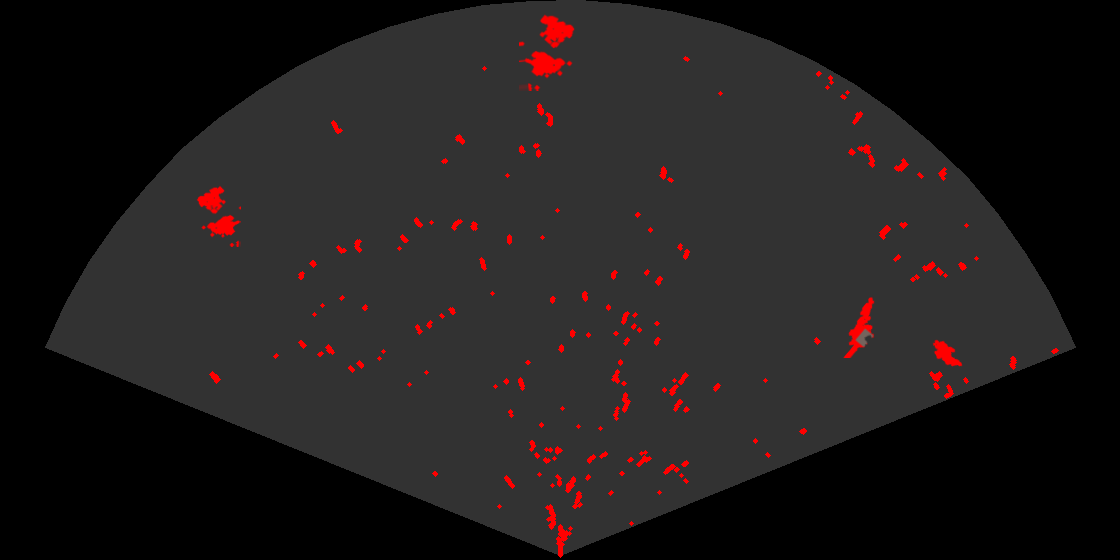AUV: (931, 338, 964, 368)
cage: (519, 13, 576, 91), (195, 184, 241, 247)
frogman: (842, 295, 876, 358)
